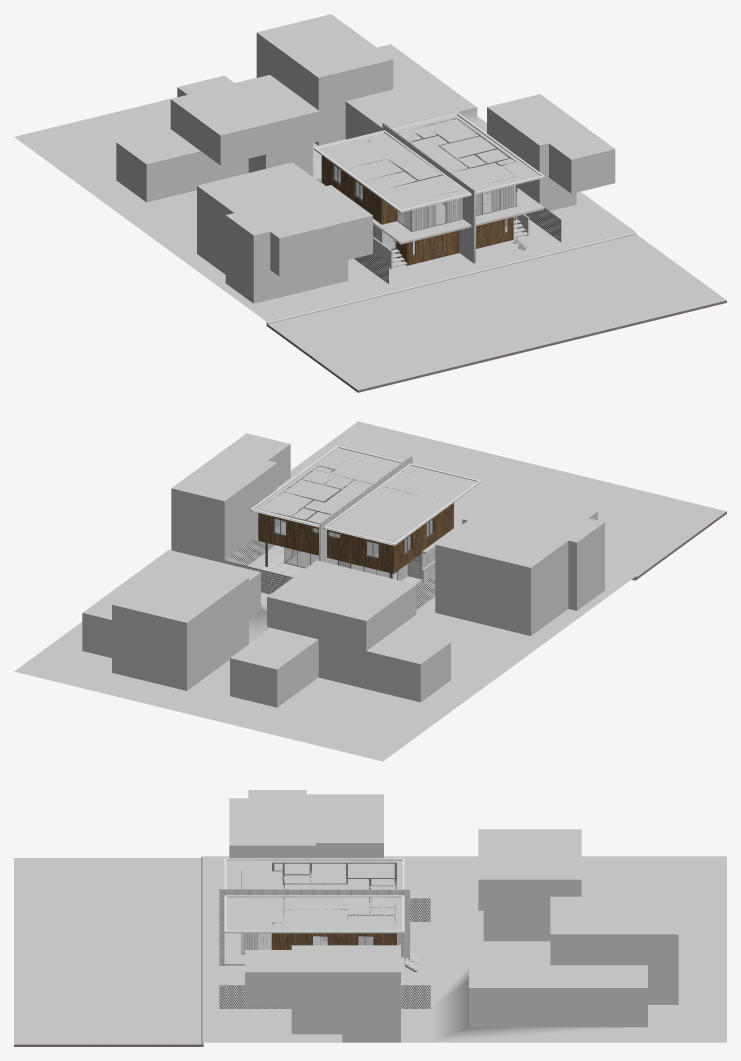
File: demo+4+new.gltf
3 renders of one model, top to bottom at view 1: azimuth 30°, elevation 25°; view 2: azimuth 150°, elevation 25°; view 3: azimuth 270°, elevation 25°, orthographic. The views are drawn at different scales.
Visible parts, largest first — view 1: node-0; view 2: node-0; view 3: node-0.
Boxes of the visible parts, <box> form: node-0: <box>14,14,726,392</box>; node-0: <box>14,421,726,761</box>; node-0: <box>14,790,726,1046</box>.
Size of the model in its own units: 42.24 by 10.1 by 68.24.
Materials: 24 (9 with a texture image).
